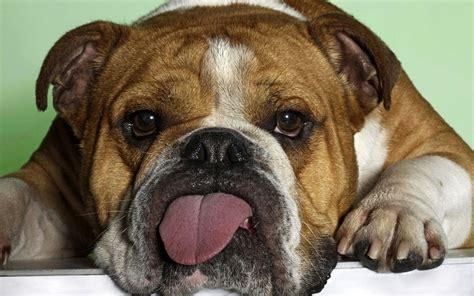dog: (1, 1, 474, 296)
